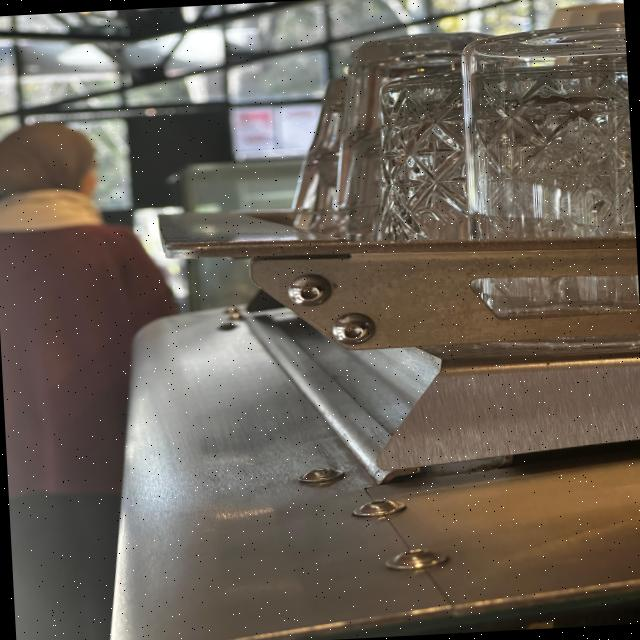Hex Socket Allen: (327, 311, 378, 352), (284, 272, 334, 312)
